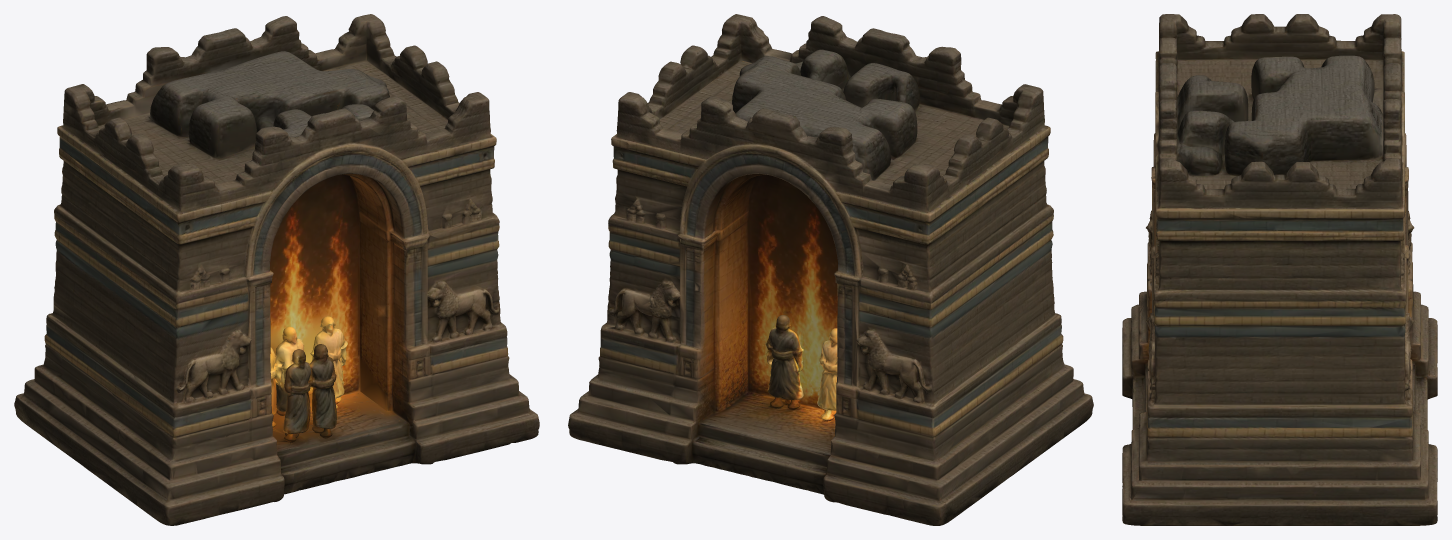
The model's file is tale_furnace.glb.
The picture shows the model from 3 angles, left to right: view 1: azimuth 30°, elevation 25°; view 2: azimuth 150°, elevation 25°; view 3: azimuth 270°, elevation 25°; orthographic projection. The views are drawn at different scales.
Parts seen in each view (by area): view 1: node_0; view 2: node_0; view 3: node_0.
Boxes of the visible parts, x1,y1,x2,y2 form: node_0: (14, 14, 539, 525); node_0: (568, 14, 1093, 525); node_0: (1122, 14, 1437, 525).
Bounding box in the file's own units: 0.798 × 0.7203 × 0.5692.
Materials: 1 (1 with a texture image).
